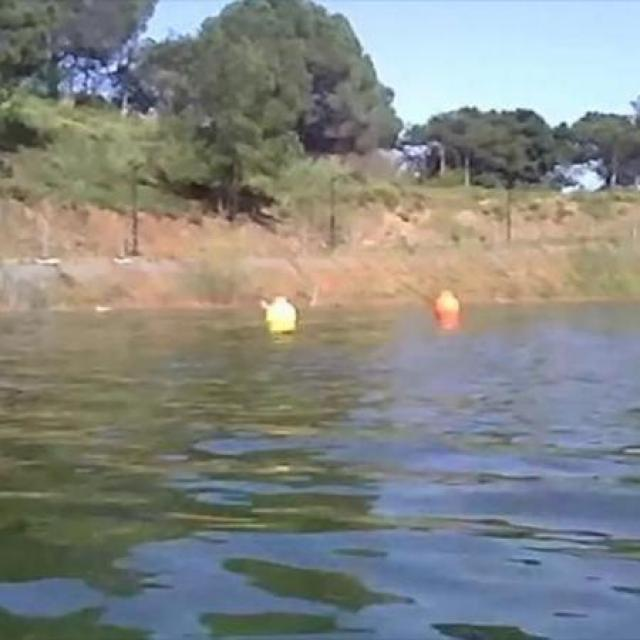buoy: (265, 295, 300, 328), (432, 291, 462, 321)
